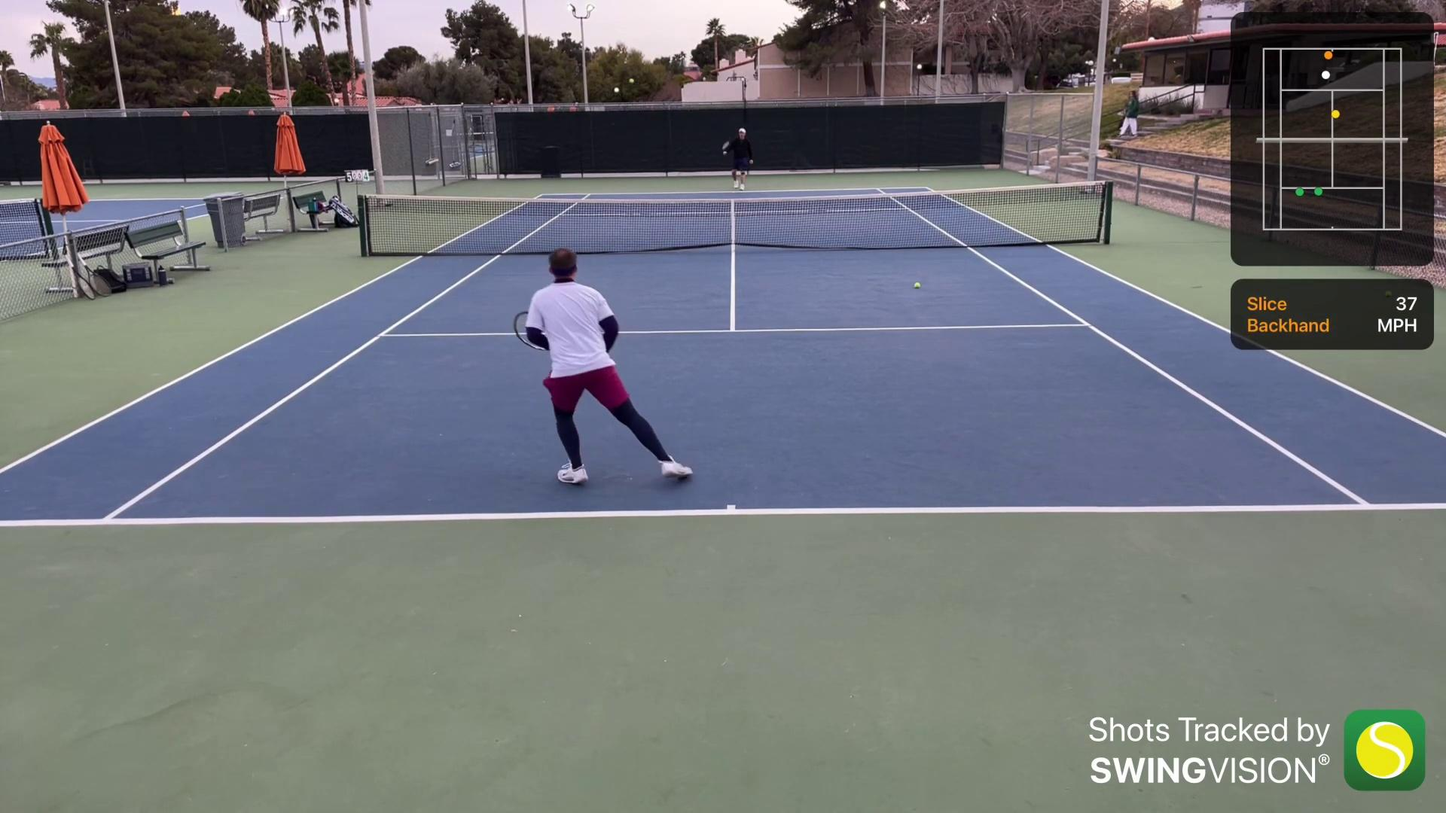ball: (627, 76, 636, 85), (915, 283, 920, 286)
